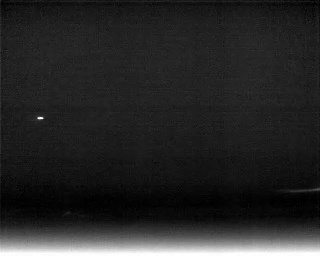AIRPLANE: (35, 114, 45, 122)
